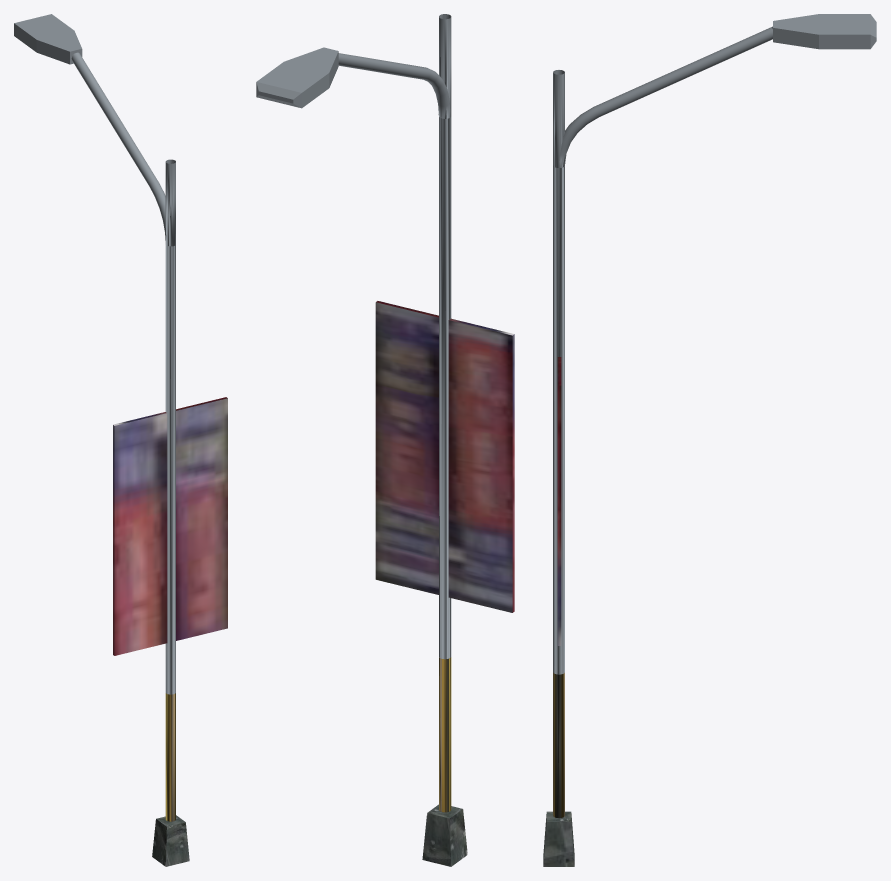
Rendered from LightLamp8.fbx.
3 renders of one model, left to right at view 1: azimuth 30°, elevation 25°; view 2: azimuth 150°, elevation 25°; view 3: azimuth 270°, elevation 25°, orthographic. The views are drawn at different scales.
Parts seen in each view (by area): view 1: LightLamp8; view 2: LightLamp8; view 3: LightLamp8.
Boxes of the visible parts, box(x1,y1,x2,y2) form: LightLamp8: box(14, 14, 227, 866); LightLamp8: box(256, 14, 514, 866); LightLamp8: box(543, 14, 876, 866).
Bounding box in the file's own units: 0.9238 × 5.76 × 2.08.
1 material, 1 textured.
